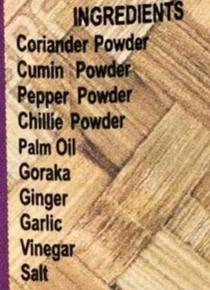ingredients: (6, 1, 195, 290)
